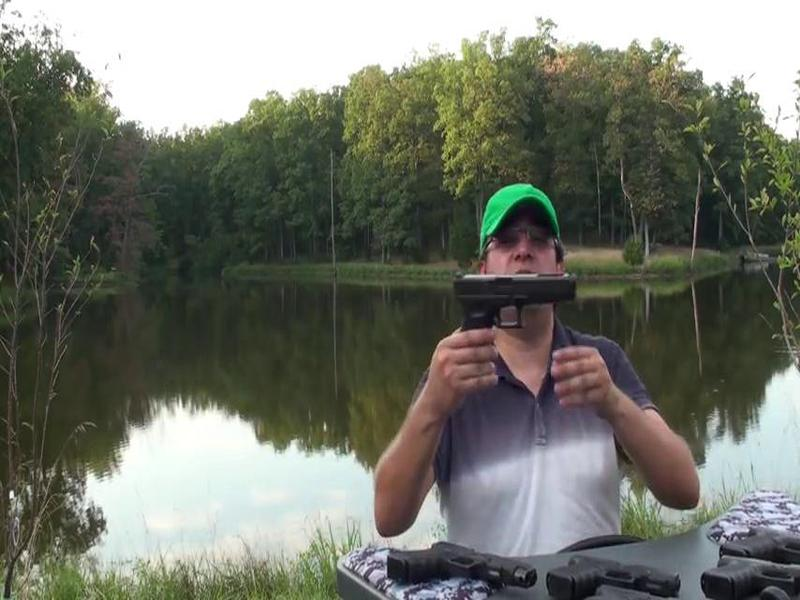Pistola: (445, 259, 581, 358)
